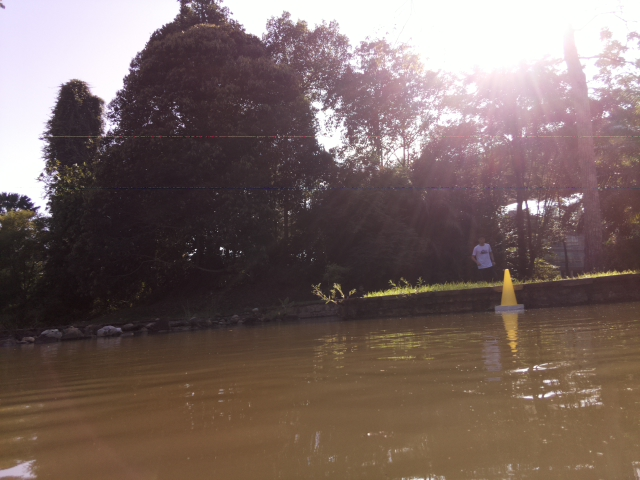checkpoint: (492, 268, 526, 311)
